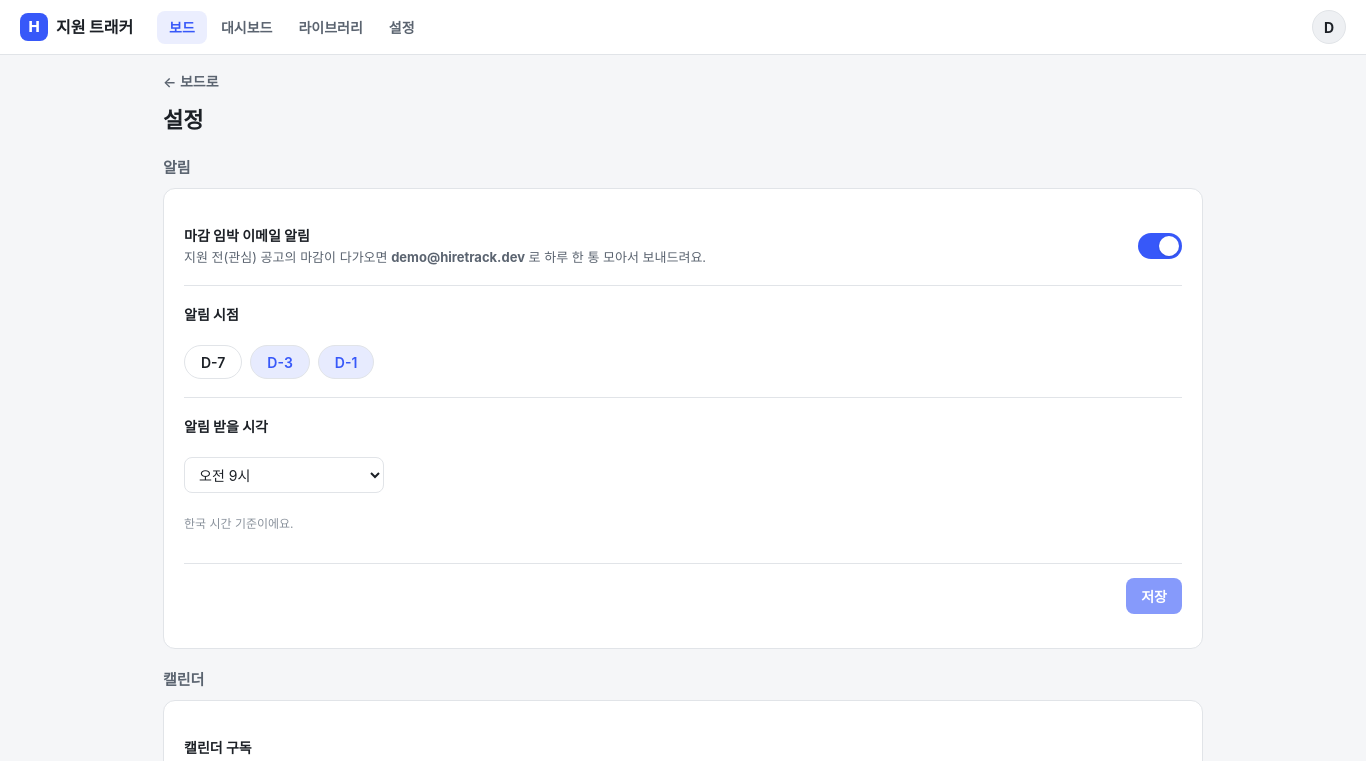
it: 설정 · 마감 알림 › 시점과 시각을 바꿔 저장하면 시점을 큰 순서로 정리해 보내고 저장 안내를 띄운다
The width and height of the screenshot is (1366, 761).
Expected: the text "demo@hiretrack.dev" is shown, top-left (391, 248), bottom-right (525, 264)
Click the 2nd checkbox labelled "D-7" at (213, 362), box top-left (184, 345), bottom-right (242, 379)
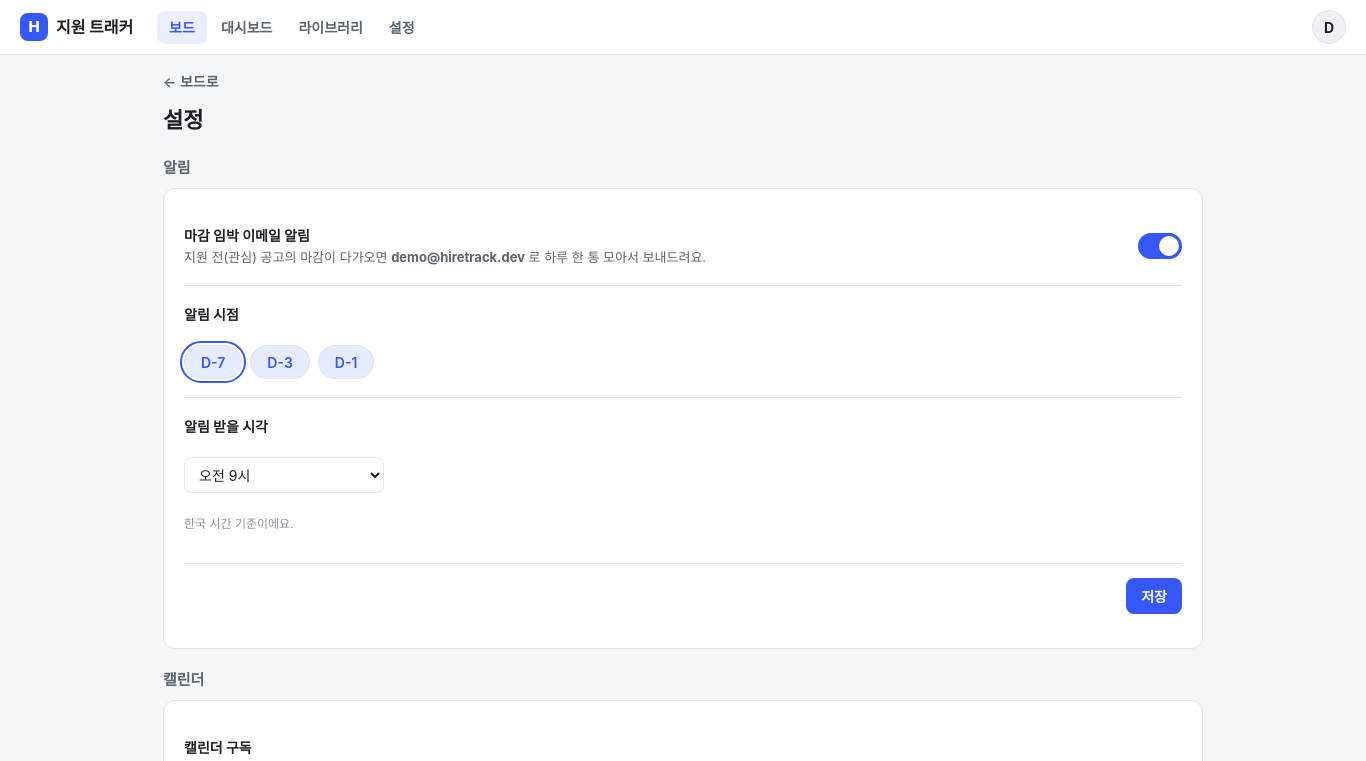
Select "오후 6시" in the dropdown at (284, 475), box top-left (184, 457), bottom-right (384, 493)
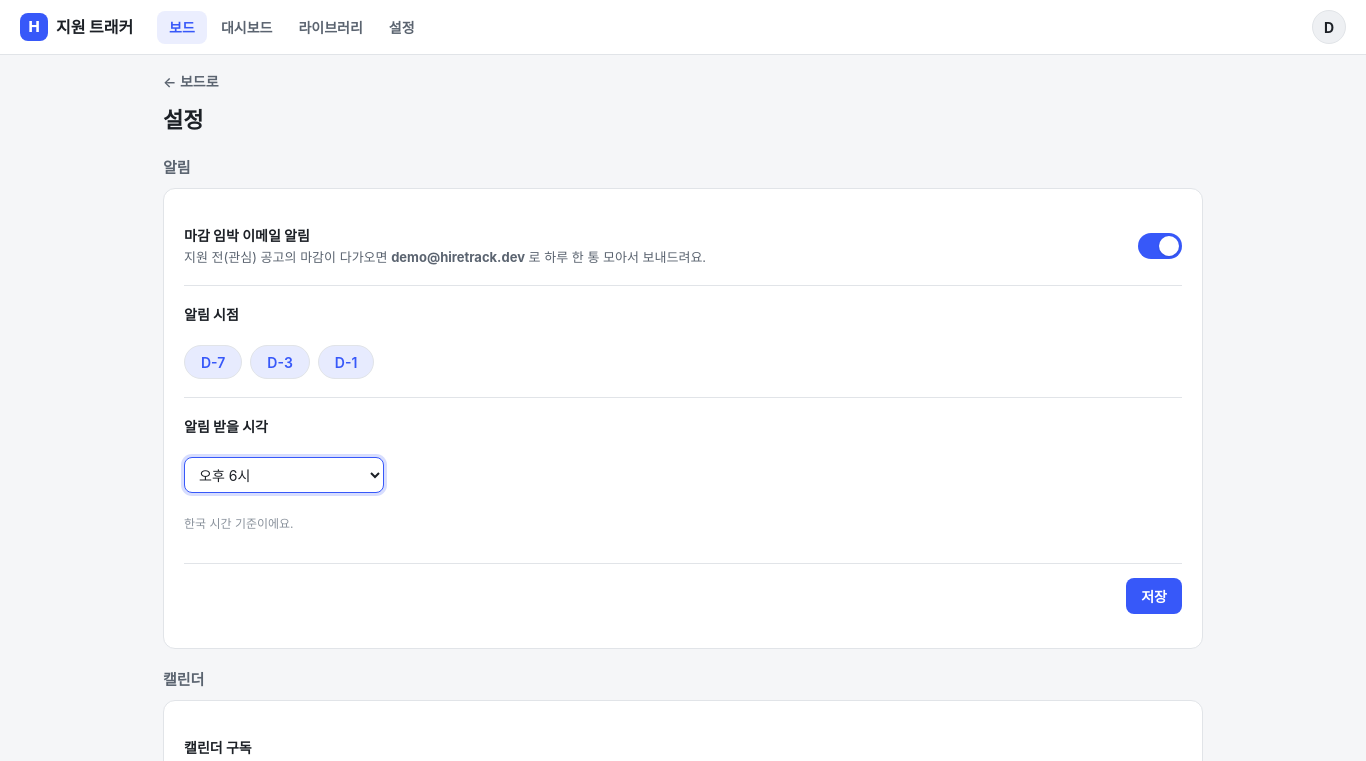
Click the button "저장" at (1154, 596), box top-left (1126, 578), bottom-right (1182, 614)
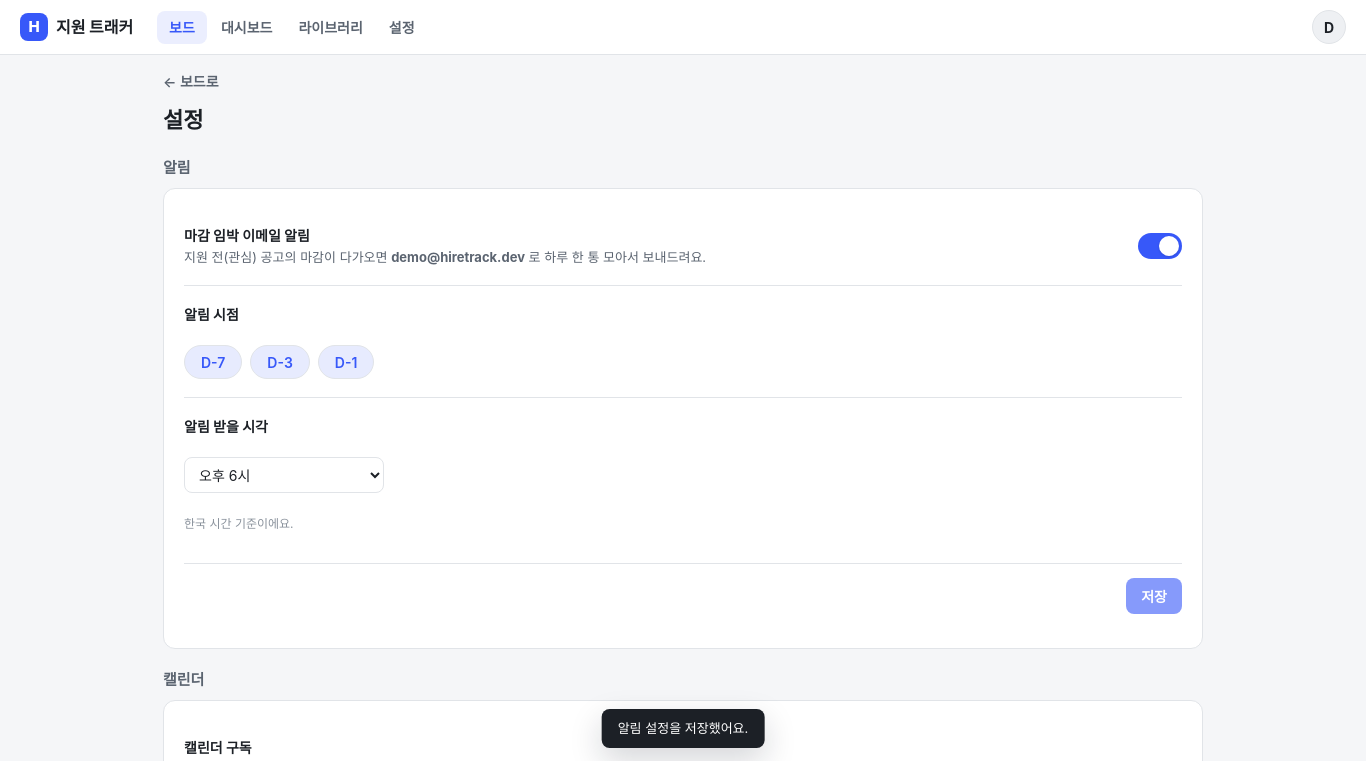
Now the text "알림 설정을 저장했어요." is shown, box top-left (602, 708), bottom-right (764, 748)
Now the button "저장" is disabled, box top-left (1126, 578), bottom-right (1182, 614)
